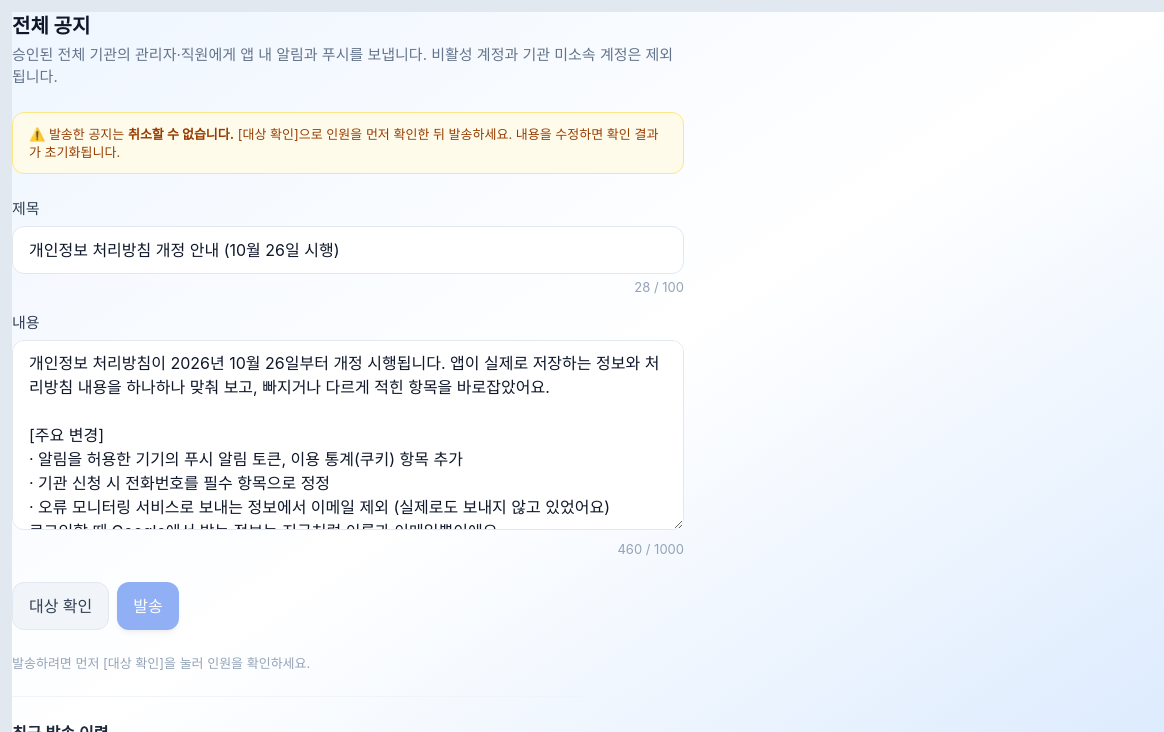
Test case: BroadcastNoticePage › 내용을 수정하면 확인 결과가 사라지고 발송이 다시 잠긴다
Step 1. Click the button "대상 확인" → click(61, 606), box x1=12 y1=582 x2=109 y2=630
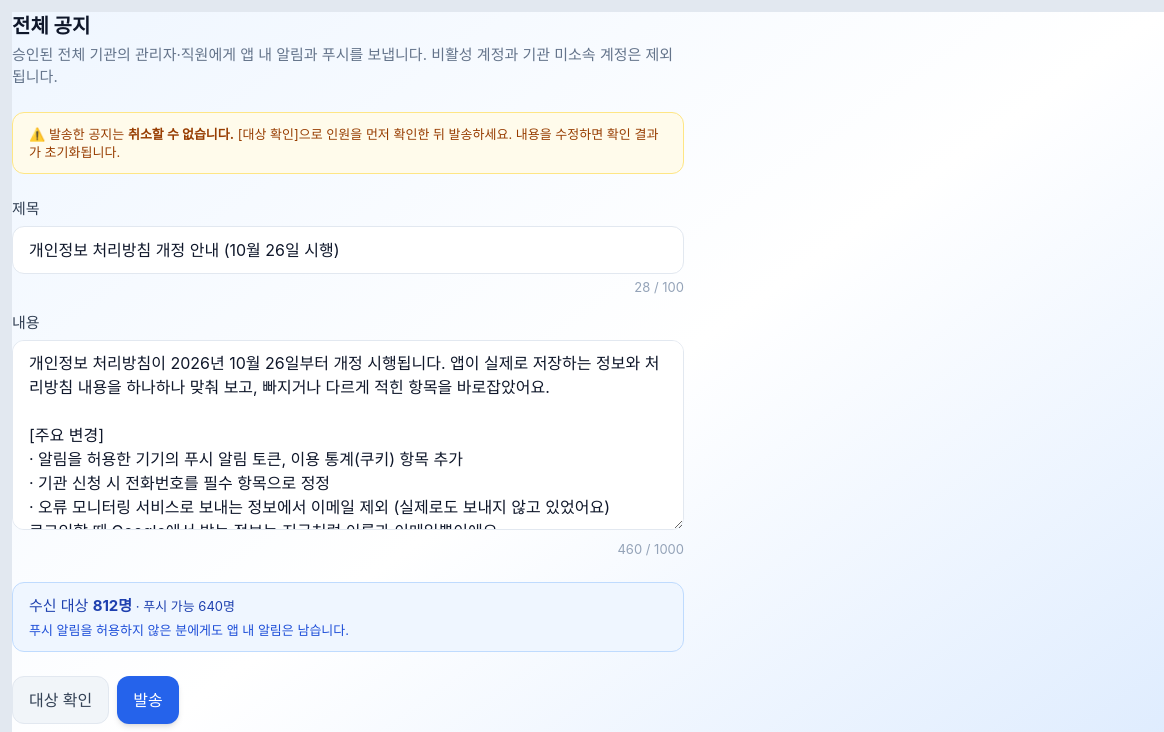
Check: the button "발송" is enabled, box x1=117 y1=676 x2=179 y2=724
Step 2. Replace the text in the field labelled "제목" with "이용약관 개정 안내!" → (348, 250), box x1=12 y1=226 x2=684 y2=274
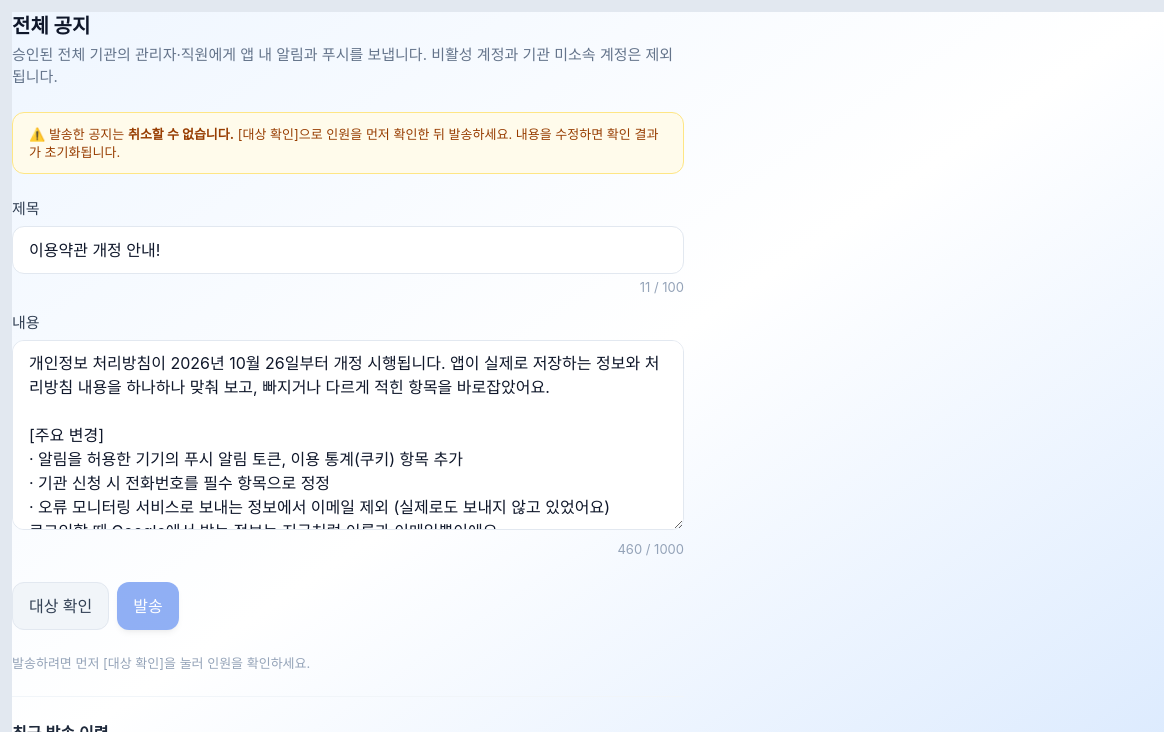
Check: the message "수신 대상 812명· 푸시 가능 640명 푸시 알림을 허용하지 않은 분에게도 앱 내 알림은 남습니다." is gone
Check: the button "발송" is disabled, box x1=117 y1=582 x2=179 y2=630
